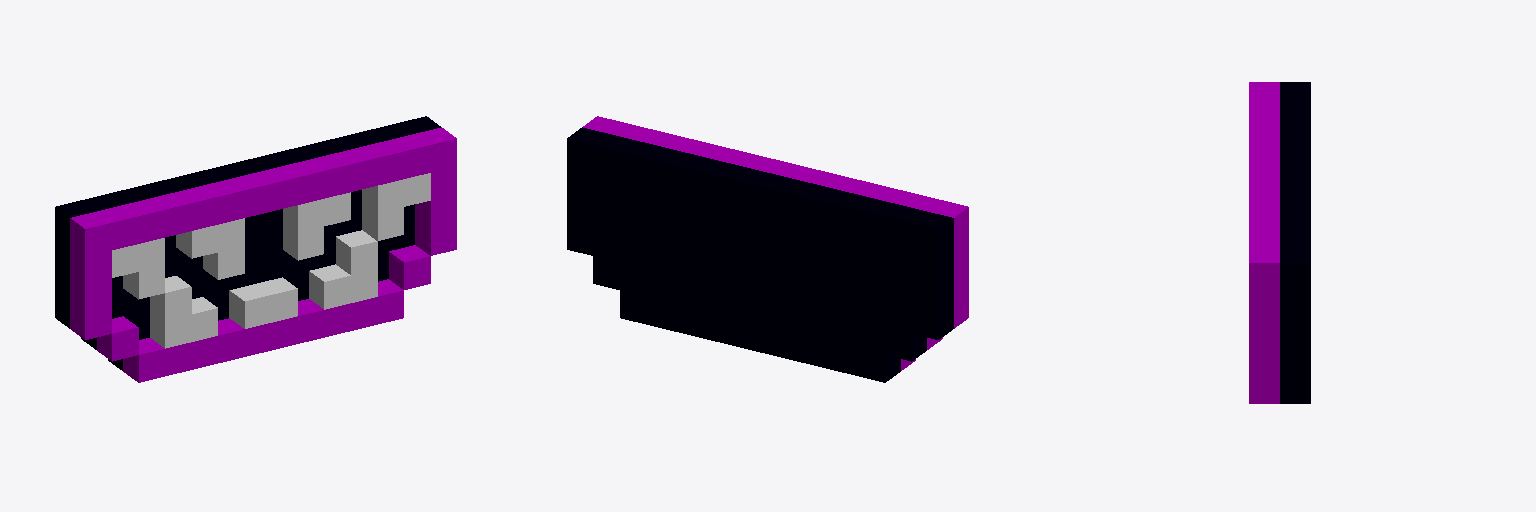
The picture shows the model from 3 angles: view 1: azimuth 30°, elevation 25°; view 2: azimuth 150°, elevation 25°; view 3: azimuth 270°, elevation 25°; orthographic projection.
Parts seen in each view (by area): view 1: object 1; view 2: object 1; view 3: object 1.
Part boxes in pixels (x1,y1,x2,y2): object 1: (55,116,456,382); object 1: (567,116,968,382); object 1: (1249,82,1310,403).
Bounding box in the file's own units: 1.4 × 0.6 × 0.2.
Materials: 1 (1 with a texture image).